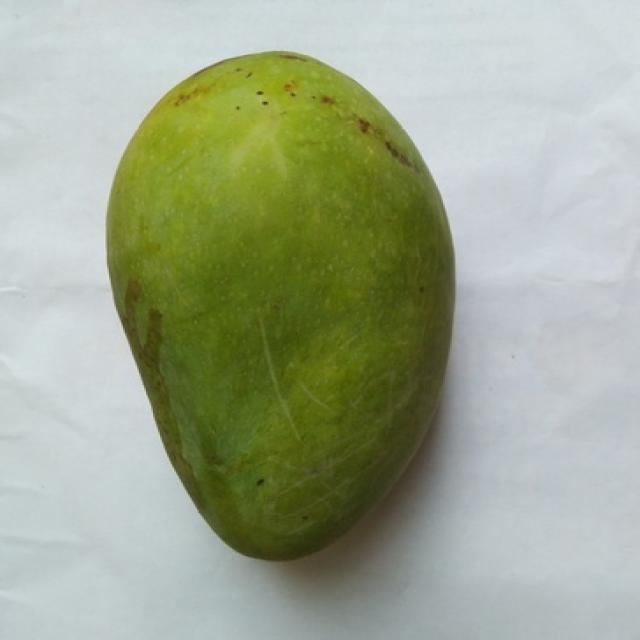Mango: (107, 51, 454, 560)
